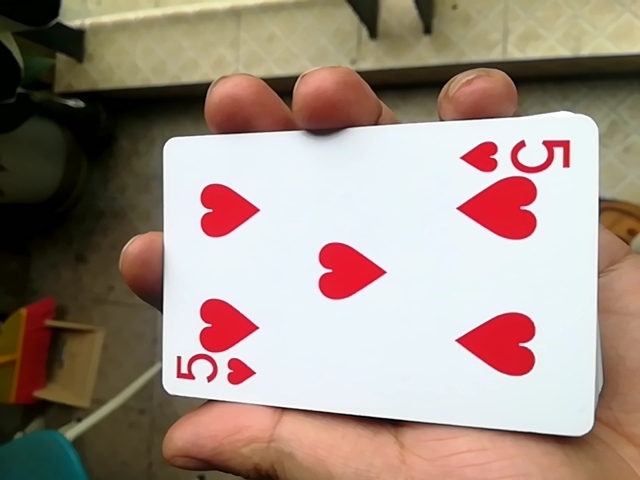hx 5: (146, 118, 596, 439)
